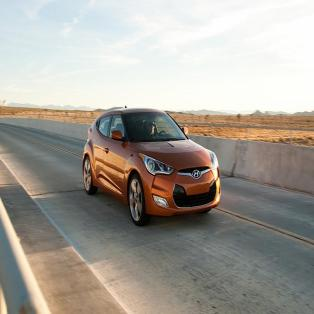Auto: (82, 106, 222, 228)
